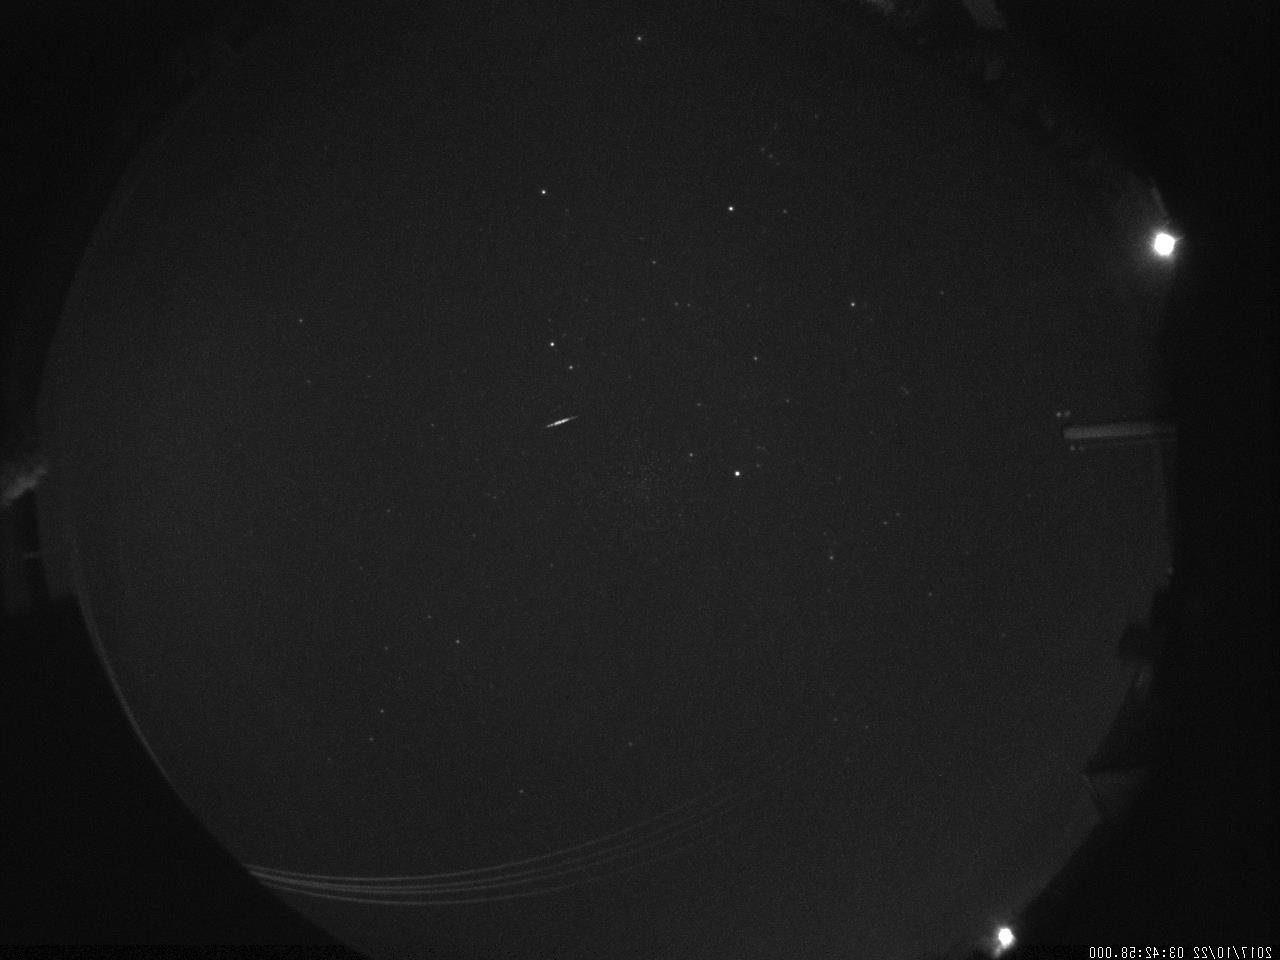meteor: (538, 405, 583, 437)
